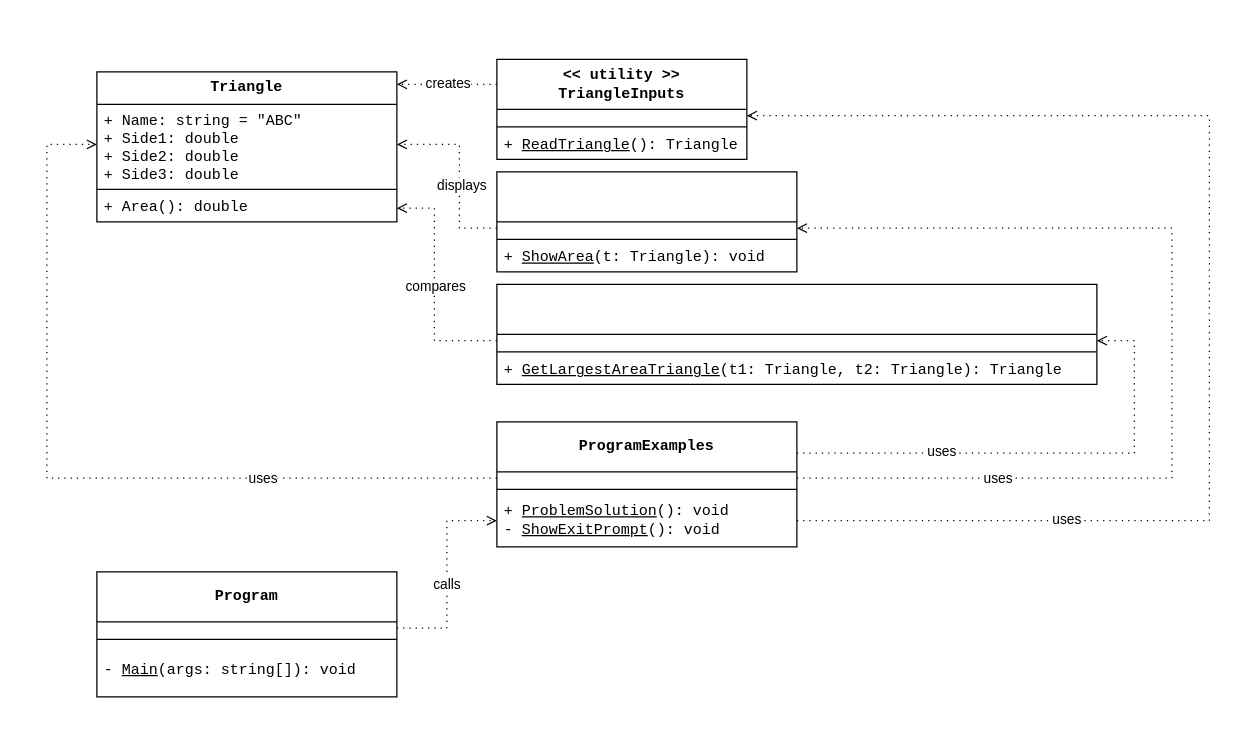
The diagram is 1255 pixels wide and 743 high, and some of its shapes have lost their labels. The box of each missing label's shape, as (x1, y1, x2, y2) in pixels:
<< utility >> TriangleCompare: (496, 283, 1097, 384)
<< utility >> TriangleOutputs: (496, 171, 797, 272)
